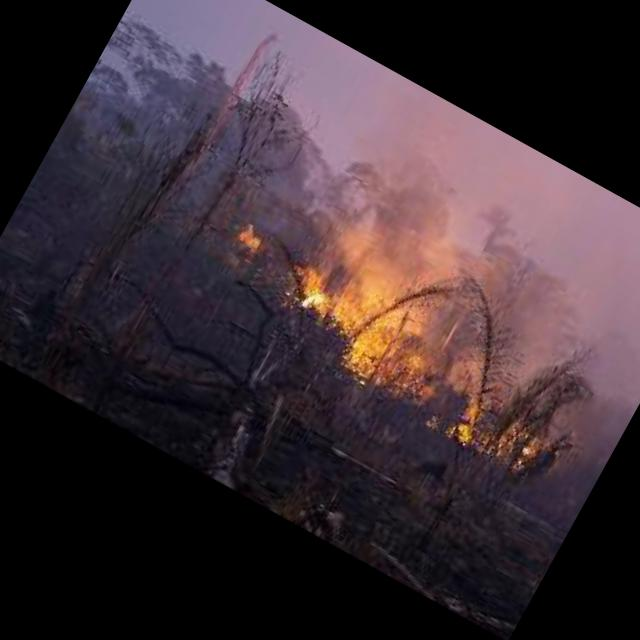fire: (276, 258, 449, 399), (448, 392, 490, 441), (238, 221, 262, 247), (520, 436, 542, 458)
